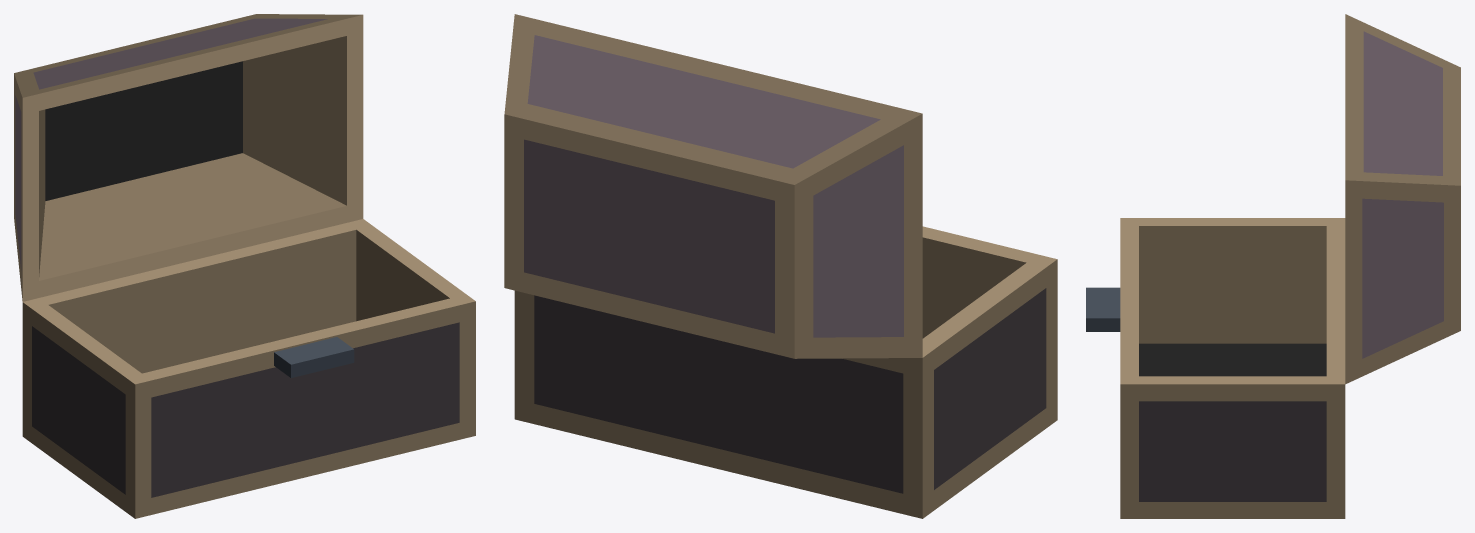
The model's file is TB_D_Prop_ChestA_Open_C.FBX.
The picture shows the model from 3 angles, left to right: view 1: azimuth 30°, elevation 25°; view 2: azimuth 150°, elevation 25°; view 3: azimuth 270°, elevation 25°; orthographic projection. The views are drawn at different scales.
Parts seen in each view (by area): view 1: TB_D_Prop_ChestA_Open_C; view 2: TB_D_Prop_ChestA_Open_C; view 3: TB_D_Prop_ChestA_Open_C.
Boxes of the visible parts, bbox=[...] form: TB_D_Prop_ChestA_Open_C: bbox=[14, 14, 475, 518]; TB_D_Prop_ChestA_Open_C: bbox=[504, 14, 1057, 518]; TB_D_Prop_ChestA_Open_C: bbox=[1086, 14, 1460, 518].
Bounding box in the file's own units: 1.05 × 0.9932 × 0.9965.
